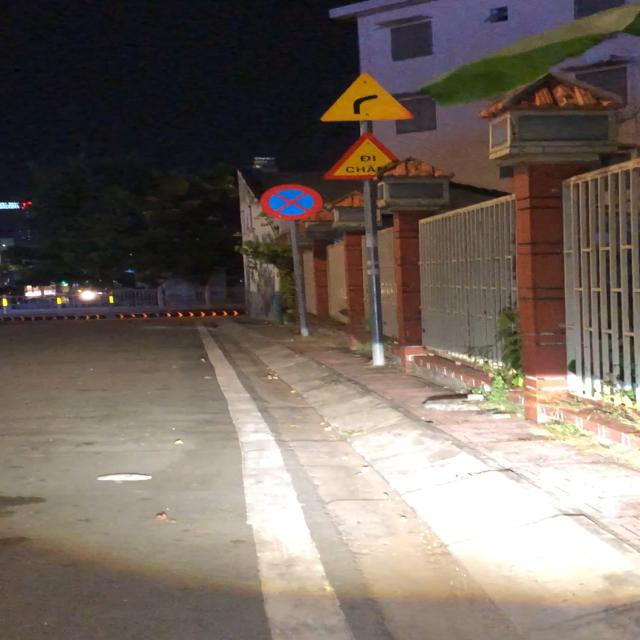Bien bao cam dung xe va do xe: (259, 182, 326, 221)
Bien bao cho ngoat nguy hiem: (319, 72, 412, 124)
Bien bao di cham: (324, 128, 407, 181)
